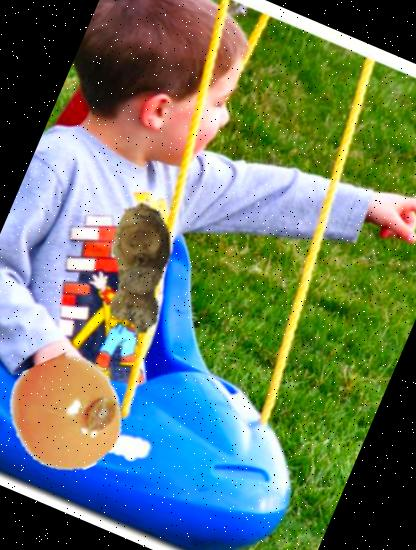Ginger: (51, 180, 227, 356)
Physalis: (0, 339, 142, 491)
